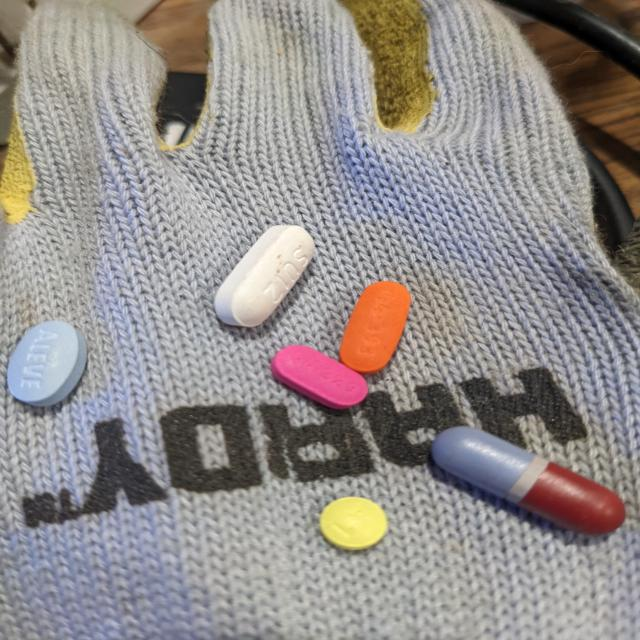non-organic waste: (429, 424, 627, 537), (212, 223, 316, 328), (5, 320, 88, 408), (337, 280, 412, 376), (269, 344, 370, 410), (318, 495, 389, 551)
